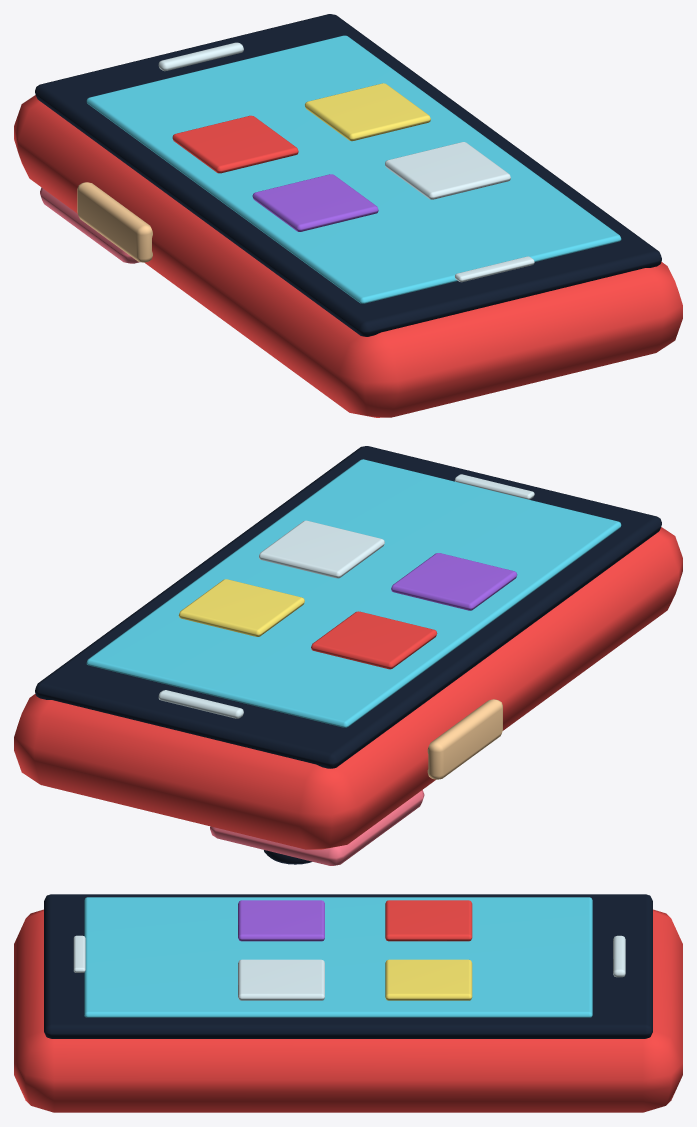
Rendered from phone.glb.
3 renders of one model, top to bottom at view 1: azimuth 30°, elevation 25°; view 2: azimuth 150°, elevation 25°; view 3: azimuth 270°, elevation 25°, orthographic. The views are drawn at different scales.
Visible parts, largest first — view 1: phone; view 2: phone; view 3: phone.
Boxes of the visible parts, x1,y1,x2,y2 form: phone: (14,14,682,417); phone: (14,446,682,865); phone: (14,894,682,1112).
Bounding box in the file's own units: 0.5605 × 0.2175 × 1.
Materials: 1 (1 with a texture image).
